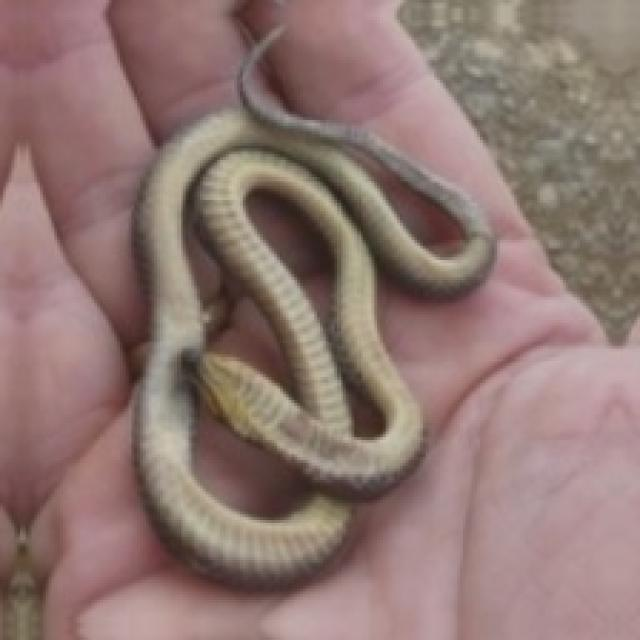gunthers philippine shrub snake: (134, 26, 491, 586)
